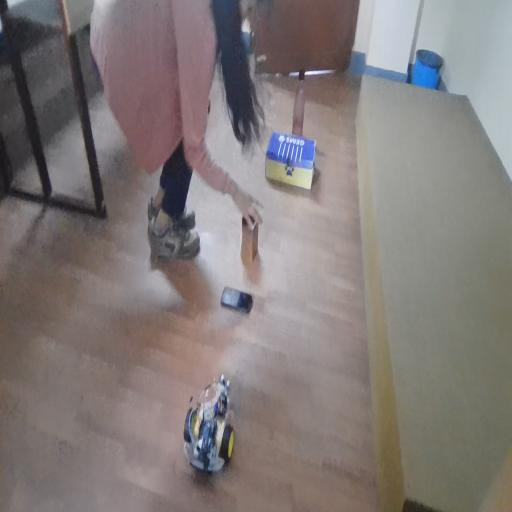Bottle: (285, 60, 310, 120)
car: (169, 390, 252, 501)
